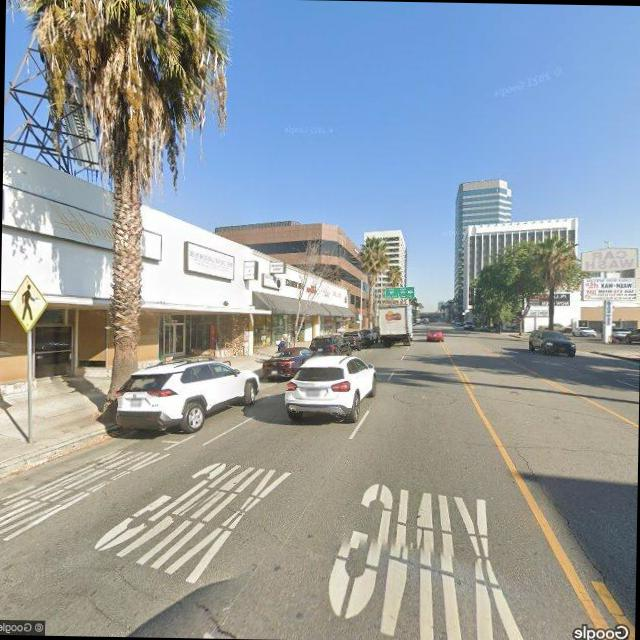pothole: (510, 446, 620, 588)
